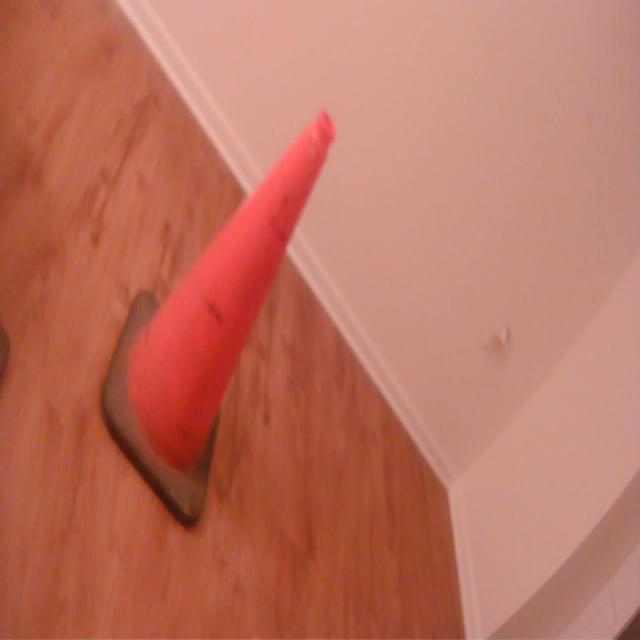traffic cone: (95, 101, 340, 535)
